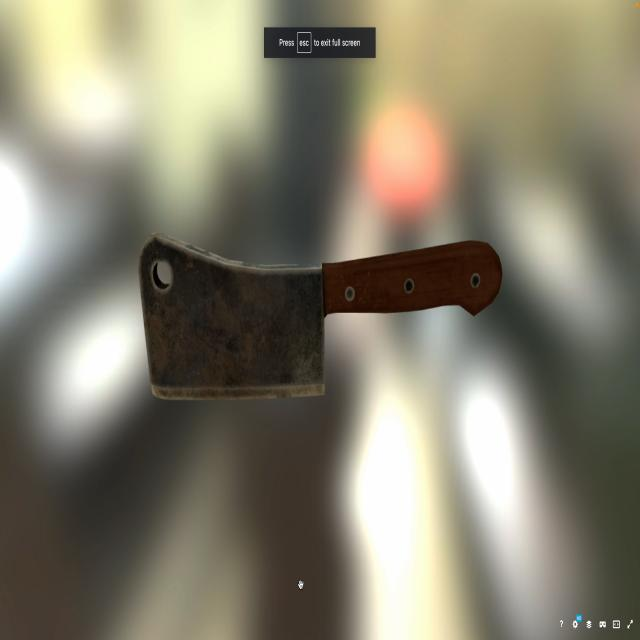cleaver: (139, 236, 511, 394)
